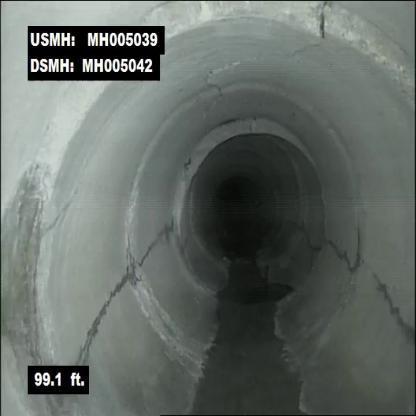buckling: (122, 81, 379, 378)
hole: (274, 2, 364, 72)
